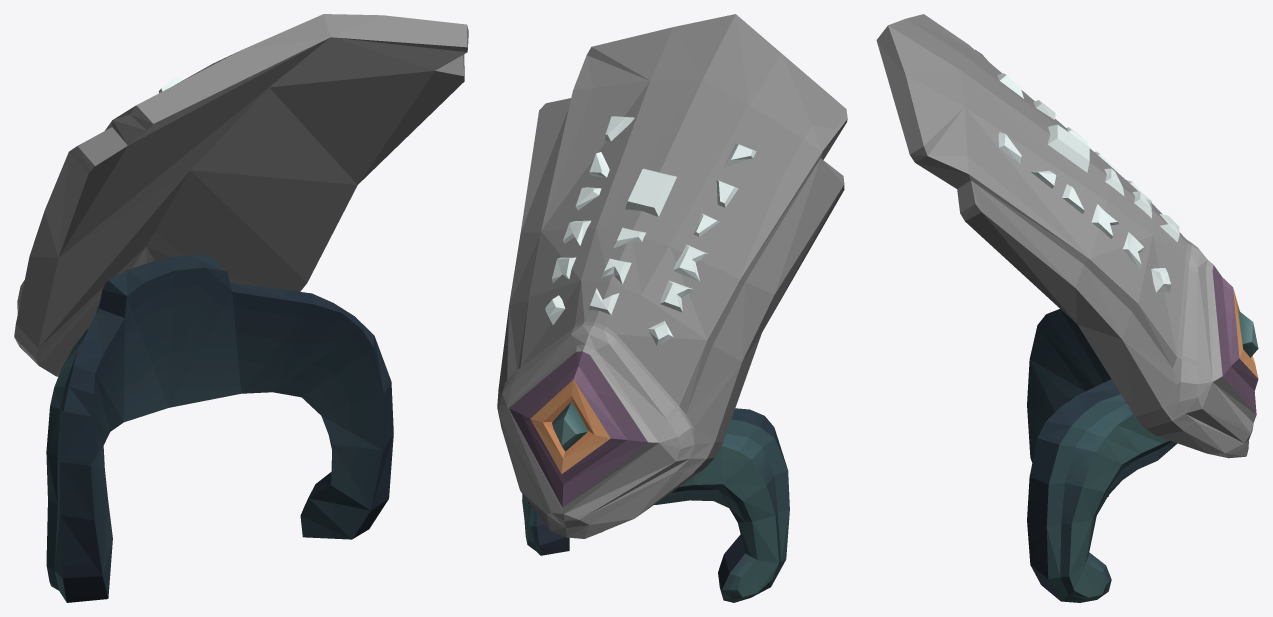
File: CharSkyKid_Face_AP27NightElder.glb
The picture shows the model from 3 angles, left to right: view 1: azimuth 30°, elevation 25°; view 2: azimuth 150°, elevation 25°; view 3: azimuth 270°, elevation 25°; orthographic projection. The views are drawn at different scales.
Parts seen in each view (by area): view 1: CharSkyKid_Face_AP27NightElder; view 2: CharSkyKid_Face_AP27NightElder; view 3: CharSkyKid_Face_AP27NightElder.
Boxes of the visible parts, x1,y1,x2,y2 form: CharSkyKid_Face_AP27NightElder: [14, 14, 468, 602]; CharSkyKid_Face_AP27NightElder: [497, 14, 847, 602]; CharSkyKid_Face_AP27NightElder: [876, 14, 1258, 602].
Size of the model in its own units: 2.83 by 4.37 by 2.88.
Materials: 1 (1 with a texture image).
